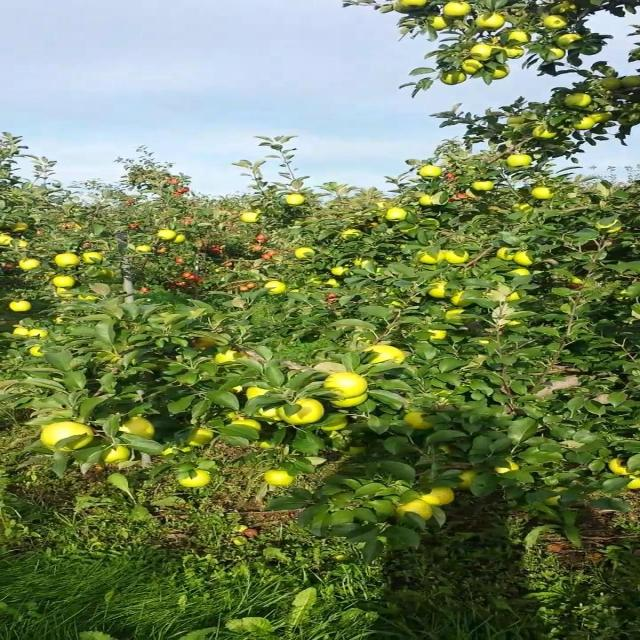apple: (42, 424, 98, 452), (284, 400, 327, 426), (326, 372, 370, 396), (120, 416, 156, 440), (397, 500, 434, 520), (362, 348, 405, 365), (419, 488, 455, 507), (333, 392, 370, 409), (184, 428, 215, 448), (476, 12, 505, 32), (177, 472, 213, 488), (262, 472, 297, 488), (99, 448, 133, 464), (611, 456, 638, 476), (404, 412, 434, 430), (319, 416, 348, 432), (212, 352, 247, 365), (255, 408, 284, 423), (433, 16, 460, 32), (596, 220, 624, 235), (532, 124, 558, 140), (440, 72, 469, 86), (547, 488, 569, 506), (468, 44, 492, 60), (504, 156, 533, 169), (447, 4, 475, 17), (547, 16, 571, 31), (234, 420, 263, 432), (461, 60, 484, 75), (561, 32, 583, 47), (497, 460, 519, 475), (461, 472, 478, 491), (433, 16, 453, 32), (390, 208, 411, 223), (568, 96, 592, 109), (397, 0, 428, 10), (269, 280, 288, 296), (454, 292, 473, 308), (419, 252, 444, 264), (84, 252, 107, 265), (589, 112, 613, 124), (532, 188, 556, 200), (99, 352, 123, 364), (547, 48, 569, 61), (191, 340, 219, 350), (228, 420, 263, 428), (13, 300, 36, 312), (340, 228, 363, 240), (433, 284, 450, 300), (497, 248, 516, 262), (419, 168, 441, 180), (447, 252, 469, 264), (56, 256, 78, 268), (476, 180, 498, 192), (56, 276, 78, 288), (511, 32, 533, 44), (504, 48, 526, 60), (575, 120, 597, 132), (490, 68, 512, 80), (248, 388, 270, 400), (447, 308, 464, 323), (568, 276, 585, 291), (20, 260, 43, 271), (284, 196, 306, 207), (241, 212, 261, 224), (355, 256, 375, 268), (56, 288, 76, 300), (618, 116, 638, 128), (554, 4, 580, 13), (518, 252, 533, 267), (604, 80, 622, 92), (419, 196, 437, 208), (625, 476, 639, 491), (298, 248, 315, 260), (134, 244, 155, 253), (35, 328, 50, 340), (177, 444, 197, 453), (511, 268, 533, 276), (227, 412, 244, 422), (156, 232, 176, 240), (504, 320, 524, 328), (348, 448, 368, 456), (625, 76, 638, 88), (13, 328, 28, 338), (28, 348, 46, 356), (170, 236, 188, 244), (1, 236, 14, 247), (77, 296, 100, 302), (99, 272, 116, 280), (241, 284, 258, 292), (511, 116, 526, 125), (333, 268, 348, 276), (13, 224, 28, 232), (433, 332, 448, 340), (518, 204, 533, 212), (326, 280, 341, 288), (511, 292, 523, 302), (454, 192, 469, 200), (156, 248, 171, 256), (490, 208, 507, 215), (369, 220, 382, 229), (333, 556, 348, 563), (163, 448, 176, 456), (234, 384, 247, 392), (447, 172, 457, 180), (492, 40, 503, 47), (262, 444, 274, 450), (20, 240, 28, 248), (56, 316, 64, 324), (376, 204, 389, 208), (184, 220, 192, 226), (84, 244, 92, 248)
